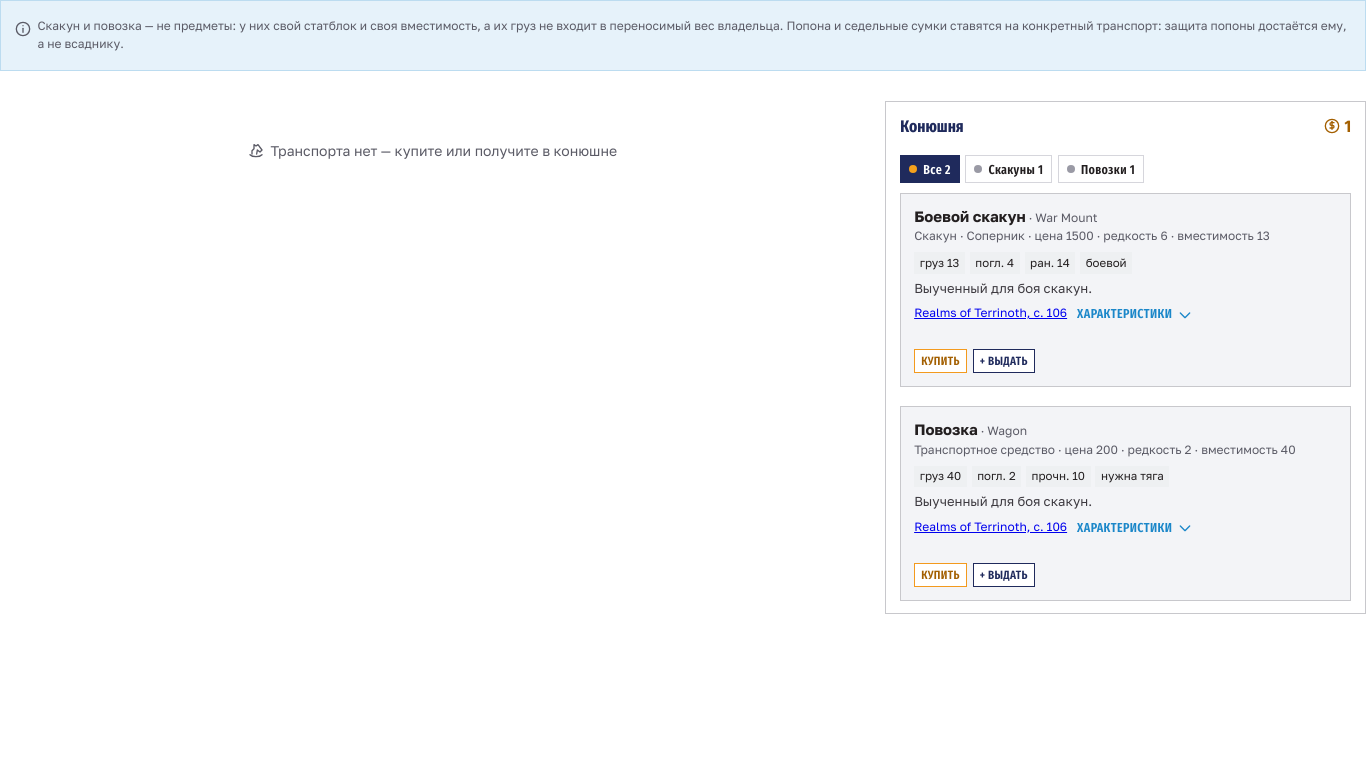
Test: Транспорт (ROT-MOUNT-ITEM-01, ROT-TRANSPORT-01) › фильтрует конюшню и оставляет бесплатную выдачу при нехватке монет
The width and height of the screenshot is (1366, 768).
Click the button "Повозки 1".
click(1101, 169)  # box [1058, 155, 1144, 183]
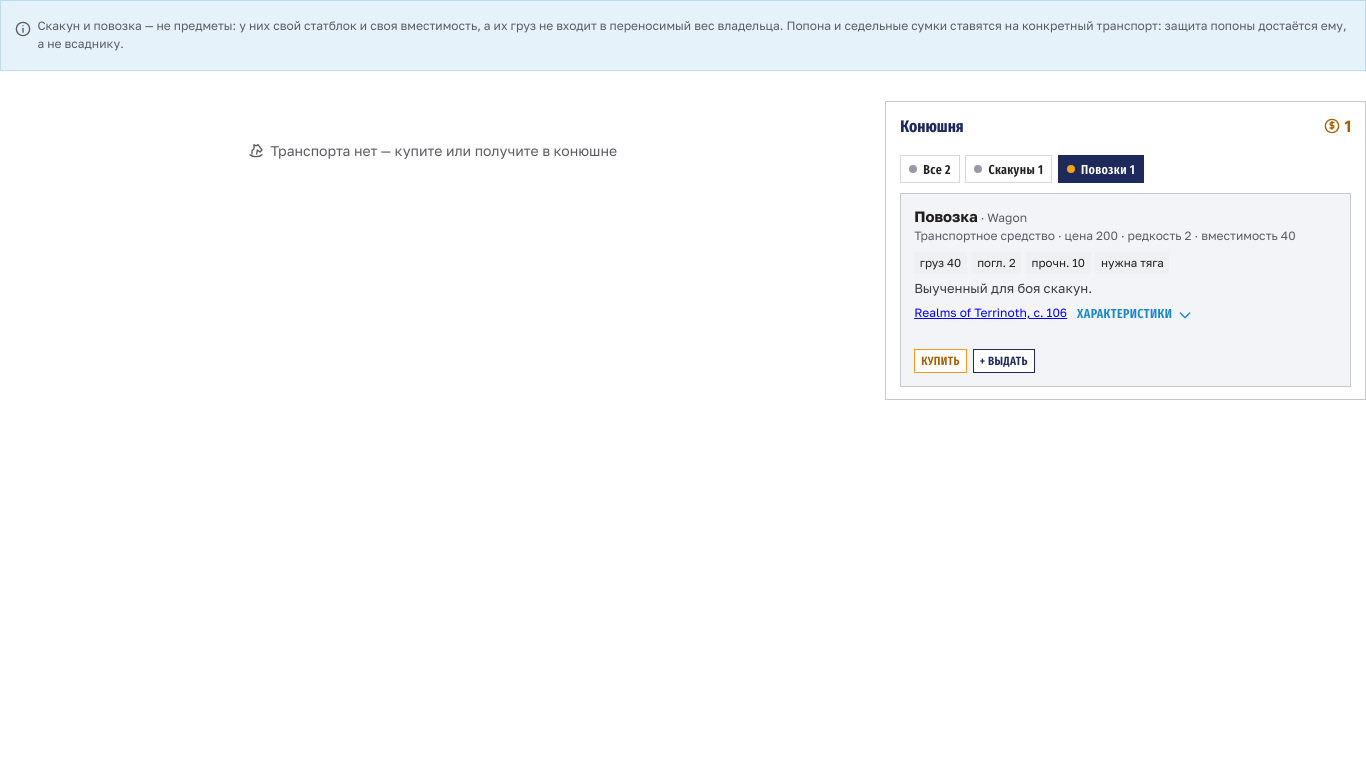
Expected: the button "Купить" is enabled, [914, 350, 967, 374]
Expected: the text "Боевой скакун" is gone
